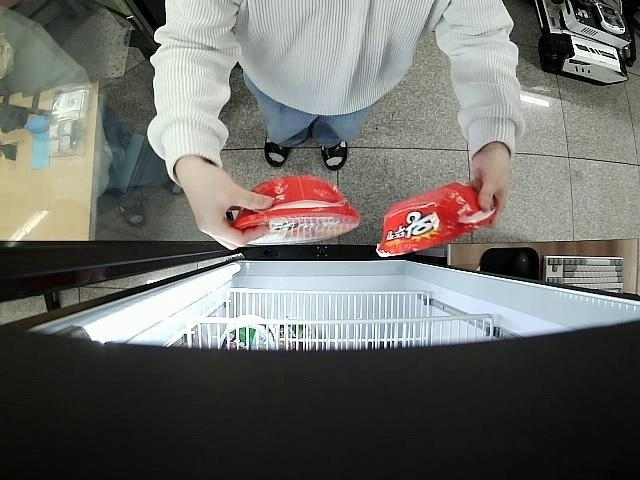10_wangTtukkeong: (233, 176, 360, 246), (376, 184, 497, 257)
